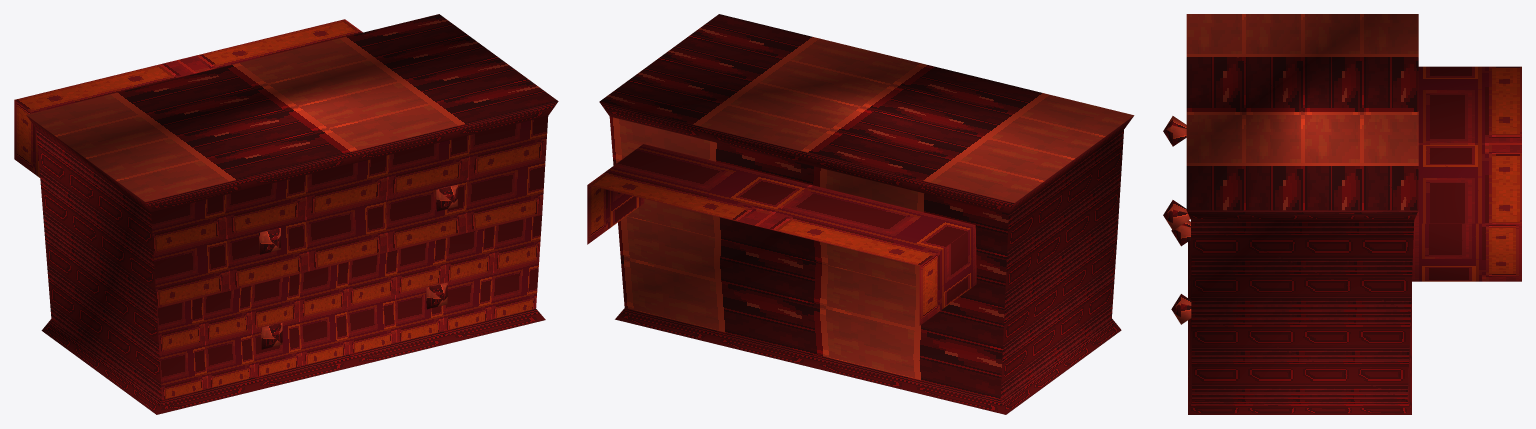
File: 3041IMRL02_02.gltf
The picture shows the model from 3 angles, left to right: view 1: azimuth 30°, elevation 25°; view 2: azimuth 150°, elevation 25°; view 3: azimuth 270°, elevation 25°; orthographic projection. The views are drawn at different scales.
Parts seen in each view (by area): view 1: 3041IMRL02_02; view 2: 3041IMRL02_02; view 3: 3041IMRL02_02.
Boxes of the visible parts, <box> form: 3041IMRL02_02: <box>14,14,558,414</box>; 3041IMRL02_02: <box>587,14,1134,414</box>; 3041IMRL02_02: <box>1163,14,1521,414</box>.
Size of the model in its own units: 2 by 1 by 1.55.
Materials: 3 (3 with a texture image).
